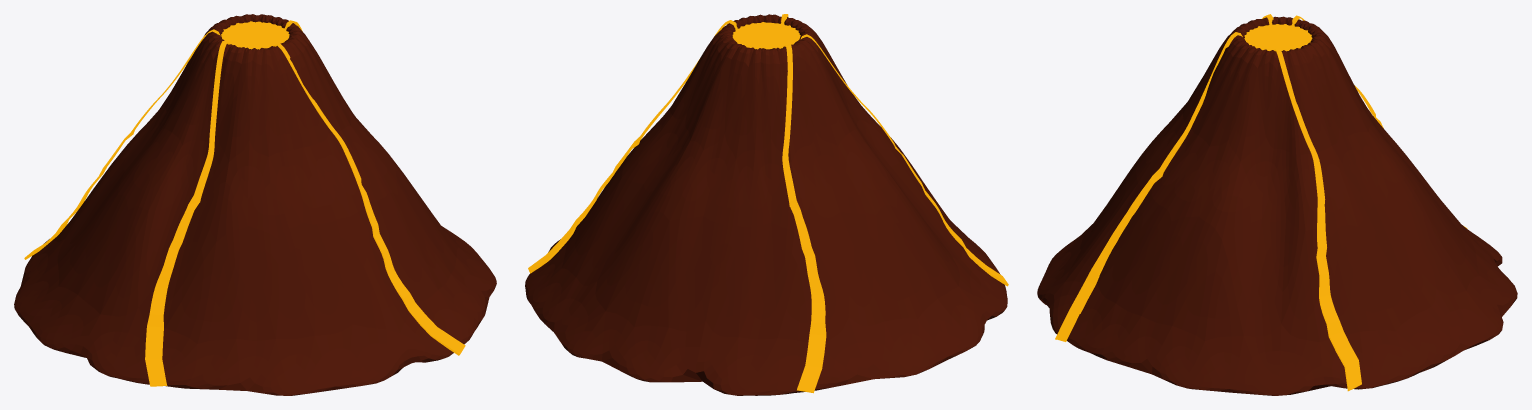
The model's file is VOLCANO.glb.
3 views of the same model, side by side, from view 1: azimuth 30°, elevation 25°; view 2: azimuth 150°, elevation 25°; view 3: azimuth 270°, elevation 25° (orthographic).
Visible parts, largest first — view 1: Cylinder, Cube, Cylinder.001; view 2: Cylinder, Cube, Cylinder.001; view 3: Cylinder, Cube, Cylinder.001.
Boxes of the visible parts, x1,y1,x2,y2 form: Cylinder: (14,14,496,395); Cube: (24,20,465,386); Cylinder.001: (221,21,289,49); Cylinder: (525,14,1007,395); Cube: (528,14,1008,393); Cylinder.001: (732,22,800,49); Cylinder: (1037,16,1517,395); Cube: (1055,14,1467,391); Cylinder.001: (1244,24,1312,51).
Size of the model in its own units: 9.48 by 5.74 by 9.45.
